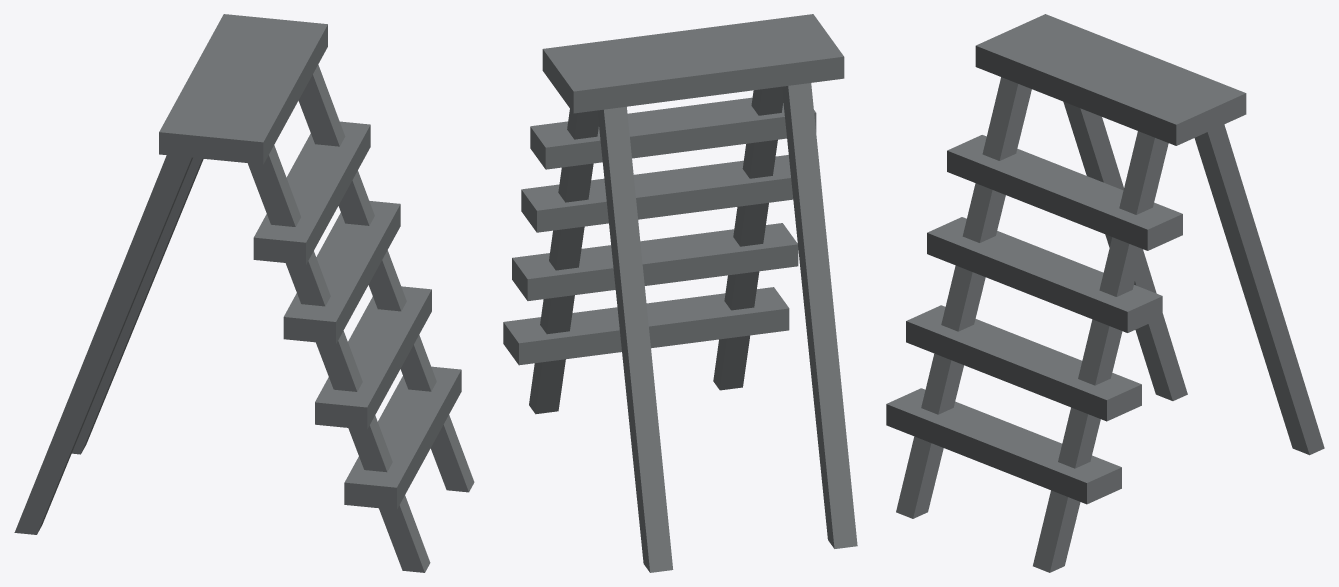
The model's file is Ladder.fbx.
3 renders of one model, left to right at view 1: azimuth 30°, elevation 25°; view 2: azimuth 150°, elevation 25°; view 3: azimuth 270°, elevation 25°, orthographic. The views are drawn at different scales.
Parts seen in each view (by area): view 1: Ladder; view 2: Ladder; view 3: Ladder.
Boxes of the visible parts, x1=… form: Ladder: x1=14, y1=14, x2=474, y2=572; Ladder: x1=503, y1=14, x2=857, y2=572; Ladder: x1=886, y1=14, x2=1324, y2=572.
Bounding box in the file's own units: 0.9523 × 0.969 × 0.9376.
